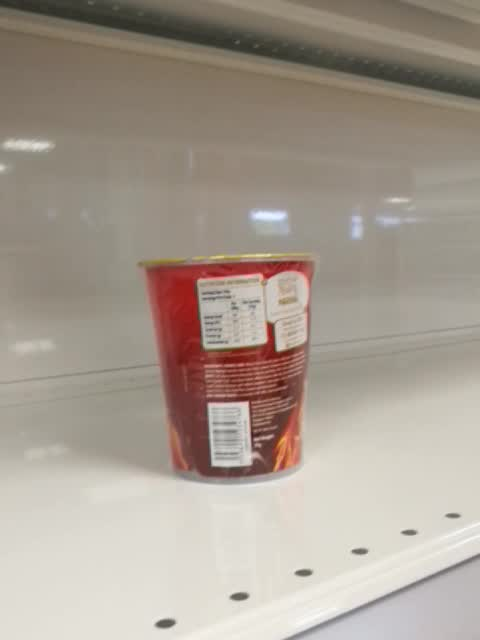maggi: (137, 252, 320, 487)
